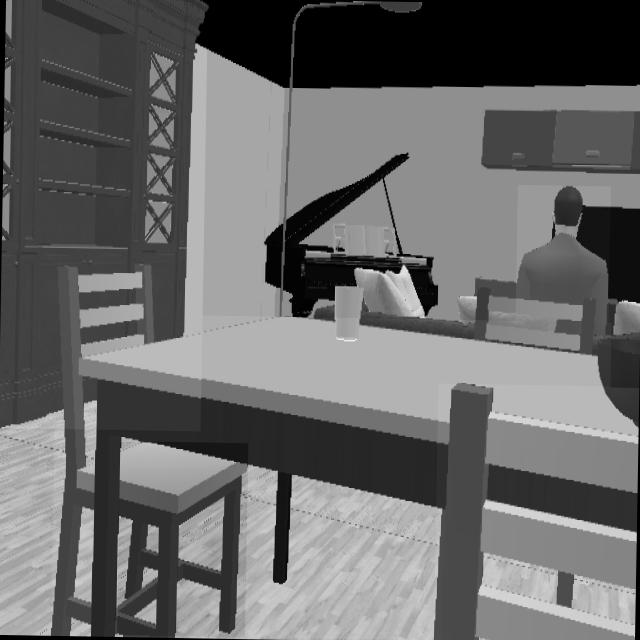cabinet: (481, 108, 640, 172)
chair: (434, 385, 638, 640), (50, 265, 154, 636), (119, 442, 247, 637)
person: (515, 186, 609, 336)
table: (79, 317, 610, 635)
